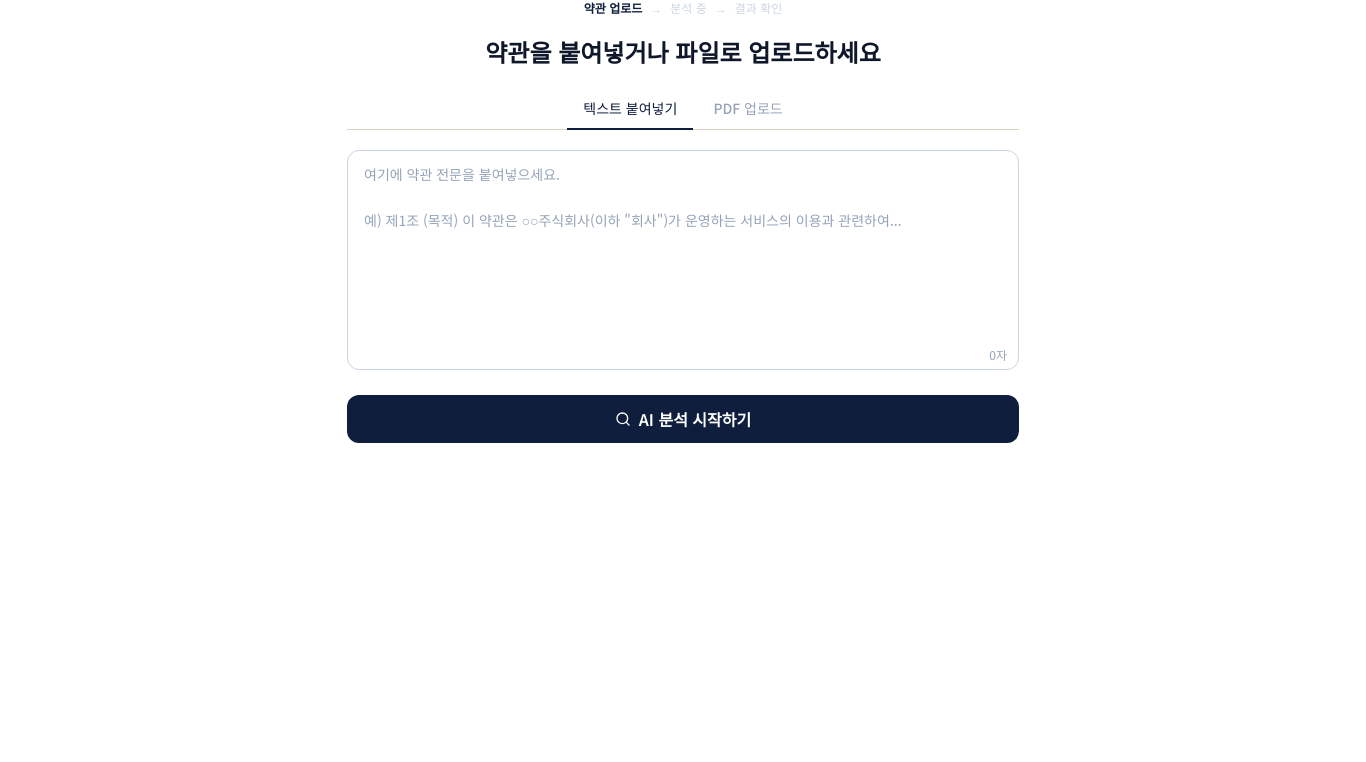
Test case: ContractAnalyzer 전체 흐름 › 판정이 나오지 않은 조항을 목록으로 보여준다
This screenshot has width=1366, height=762.
Type "회사는 사전 통지 없이 계약을 해지할 수 있는 조항을 포함한다." into the text box named "분석할 계약서 전문 입력".
click(683, 260); type("회사는 사전 통지 없이 계약을 해지할 수 있는 조항을 포함한다.")  # box [347,150,1019,370]
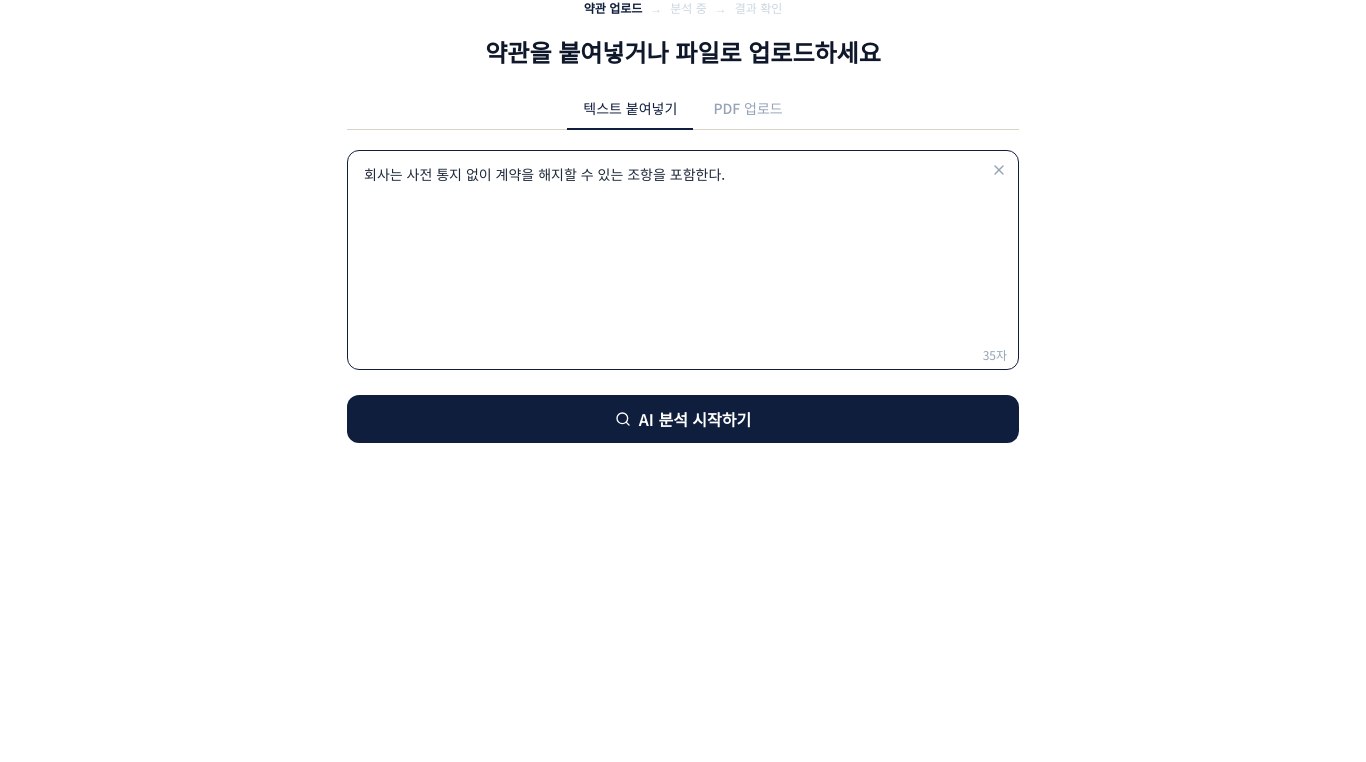
Click the button with aria-label "계약서 전체 분석 시작".
click(683, 419)  # box [347,395,1019,443]
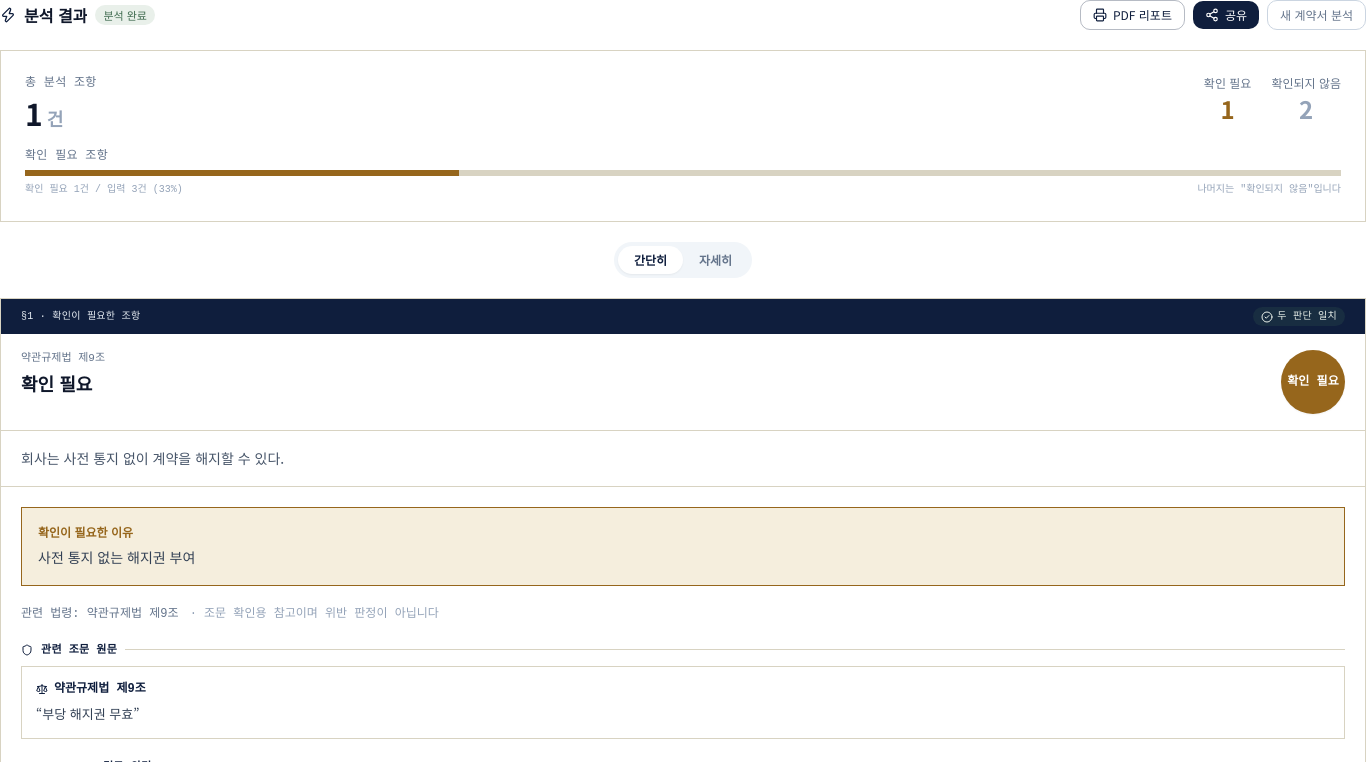
Expected: the heading "분석 결과" is shown, [24,3,87,27]
